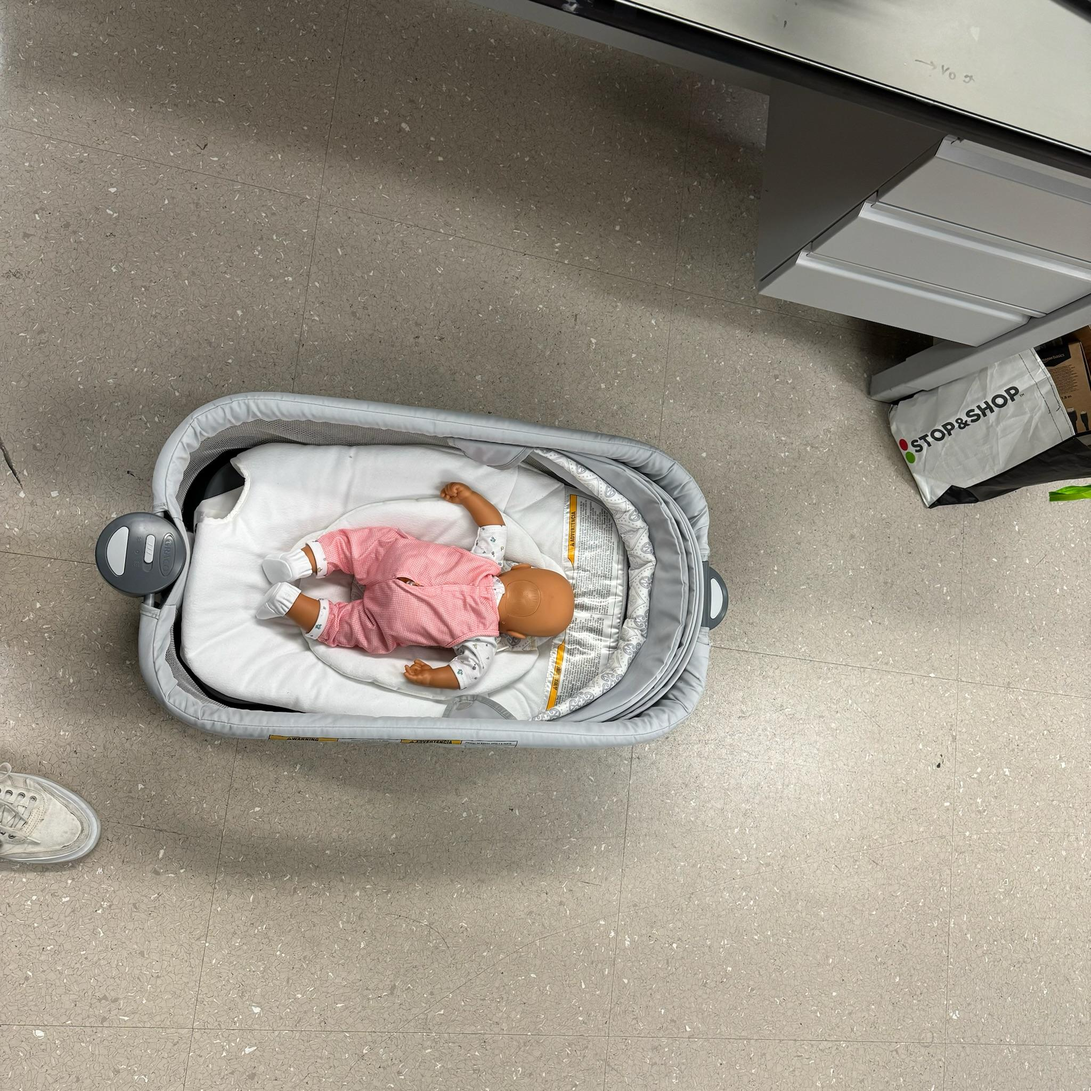baby: (236, 472, 585, 696)
